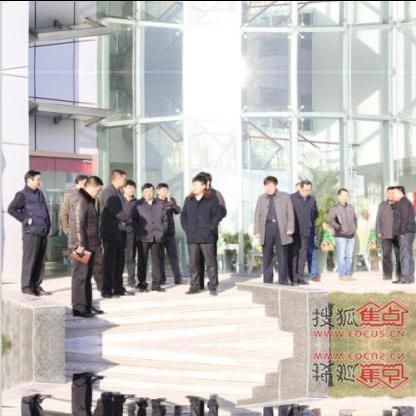No Helmet: (258, 172, 282, 196), (22, 164, 44, 190), (80, 171, 100, 195), (332, 184, 352, 204), (294, 176, 312, 198), (108, 166, 124, 190), (138, 178, 154, 200), (119, 177, 135, 196), (190, 173, 204, 194), (155, 180, 169, 200), (390, 180, 404, 199), (72, 171, 84, 189), (382, 184, 392, 200)
